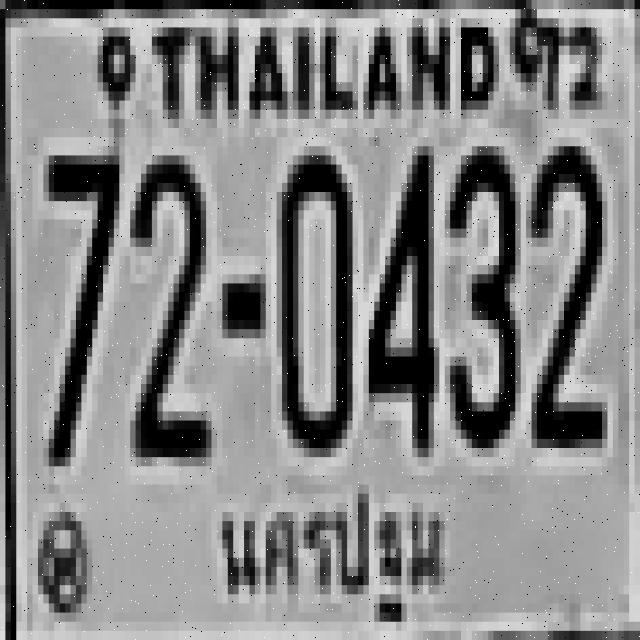0: (277, 146, 347, 448)
2: (529, 142, 599, 444), (130, 150, 200, 452)
3: (445, 137, 515, 439)
4: (364, 142, 434, 444)
7: (44, 146, 120, 457), (44, 146, 120, 356)
NakhonPathom: (214, 474, 447, 630)
